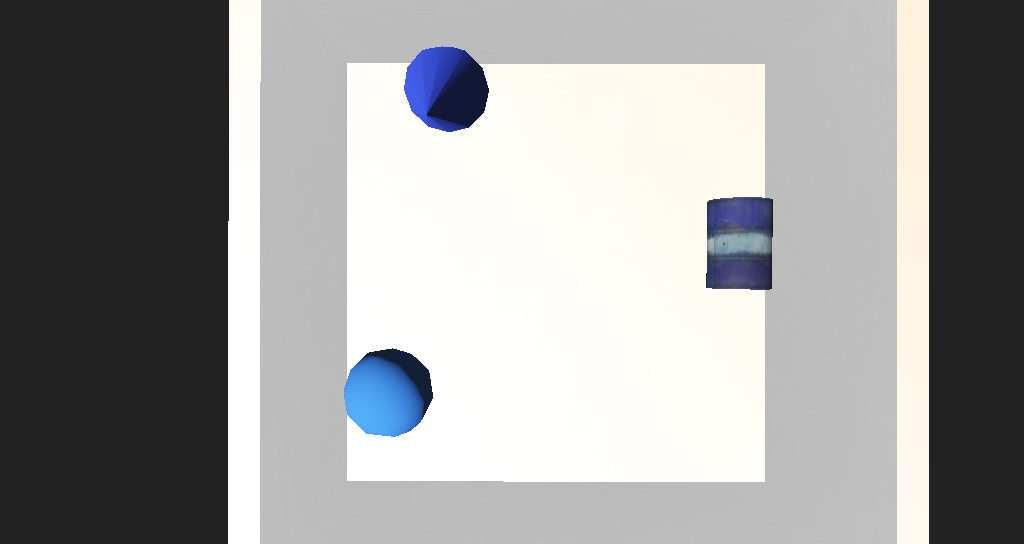cone: (606, 229, 660, 277)
cylinder: (377, 146, 458, 217)
sphere: (350, 308, 418, 351)
